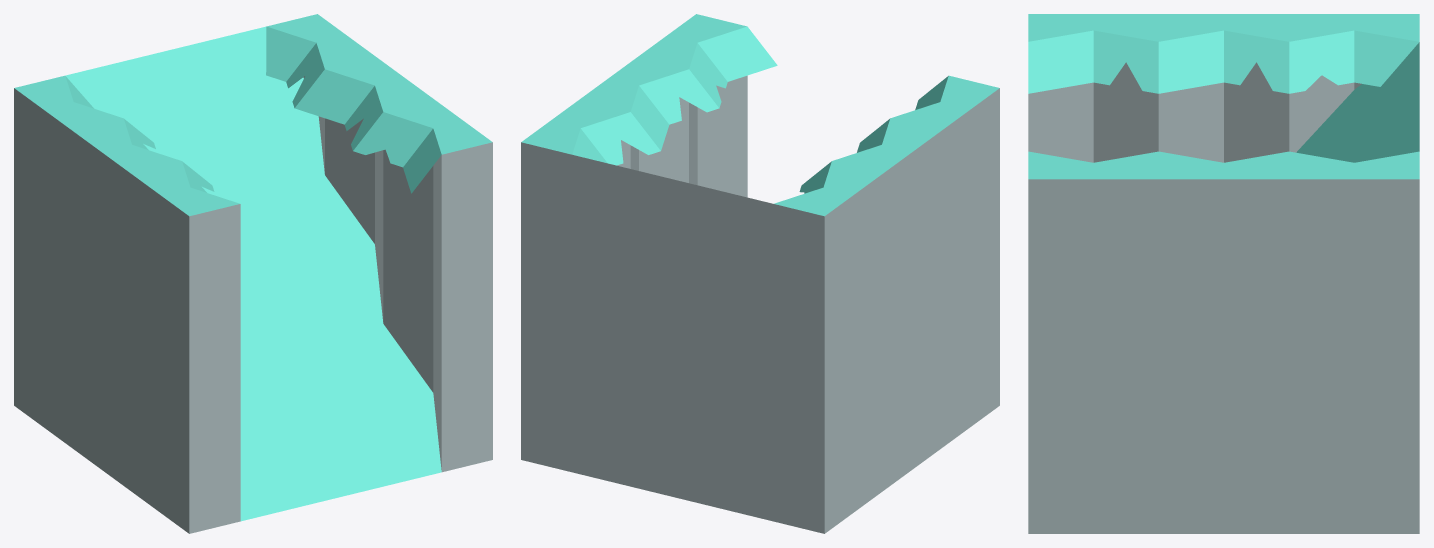
Rendered from cliff_blockSlopeWalls_stone.gltf.
3 views of the same model, side by side, from view 1: azimuth 30°, elevation 25°; view 2: azimuth 150°, elevation 25°; view 3: azimuth 270°, elevation 25° (orthographic). The views are drawn at different scales.
Visible parts, largest first — view 1: cliff_blockSlopeWalls_stone; view 2: cliff_blockSlopeWalls_stone; view 3: cliff_blockSlopeWalls_stone.
Part boxes in pixels (bbox=[...]): cliff_blockSlopeWalls_stone: bbox=[14, 14, 492, 533]; cliff_blockSlopeWalls_stone: bbox=[521, 14, 999, 533]; cliff_blockSlopeWalls_stone: bbox=[1028, 14, 1419, 533].
Bounding box in the file's own units: 1 × 1 × 1.
